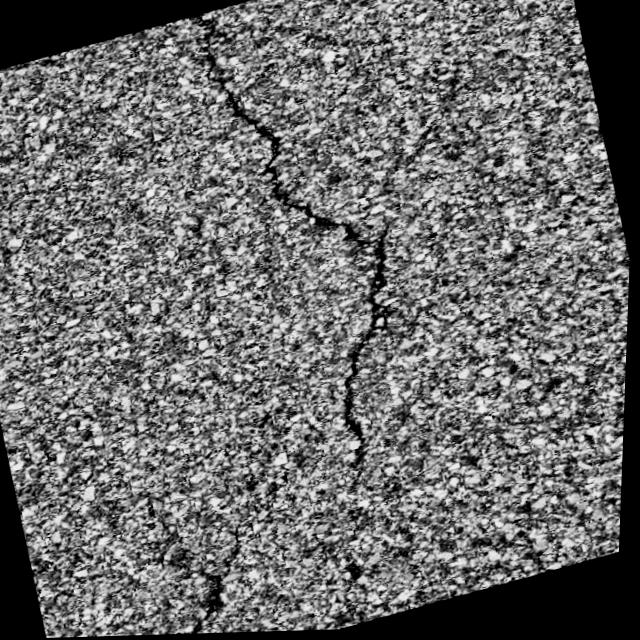cracks: (187, 14, 386, 474)
